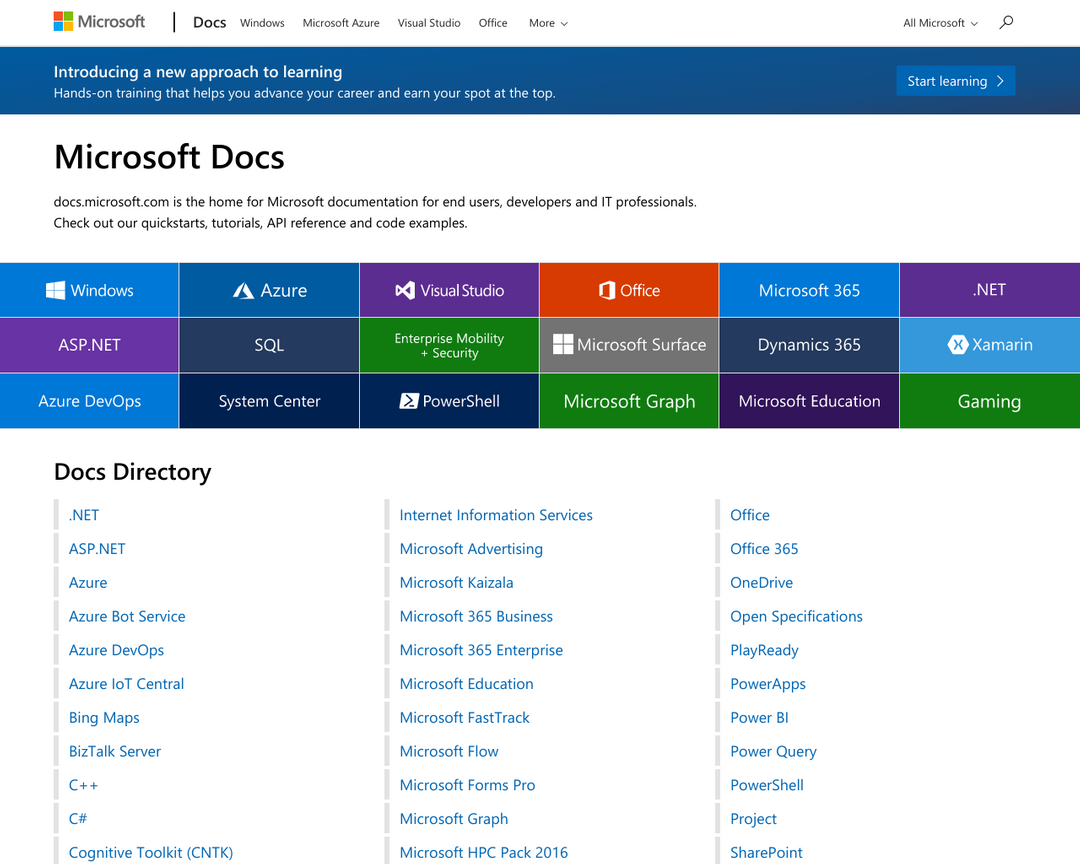Microsoft: (51, 6, 78, 35)
